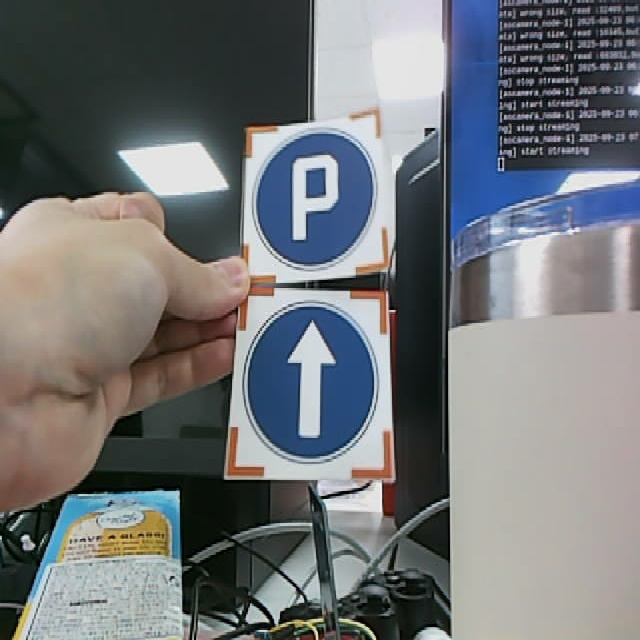parking: (243, 110, 393, 283)
straight: (226, 290, 398, 482)
